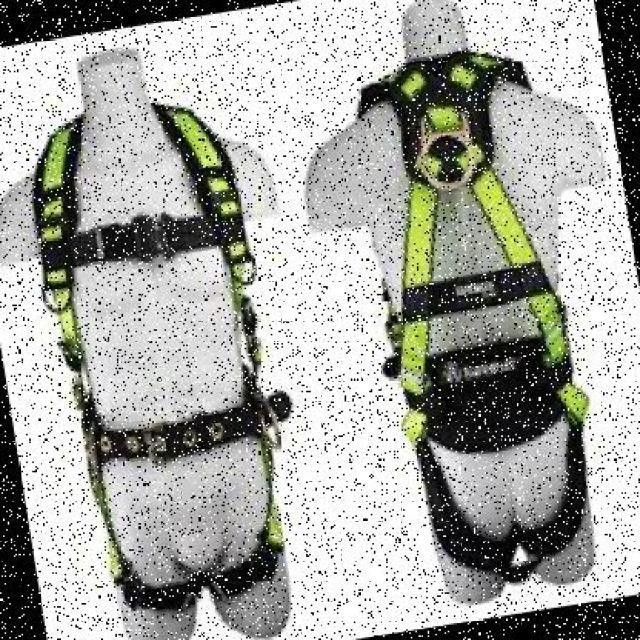Arnes_seguridad: (7, 83, 321, 622), (336, 38, 616, 600)
